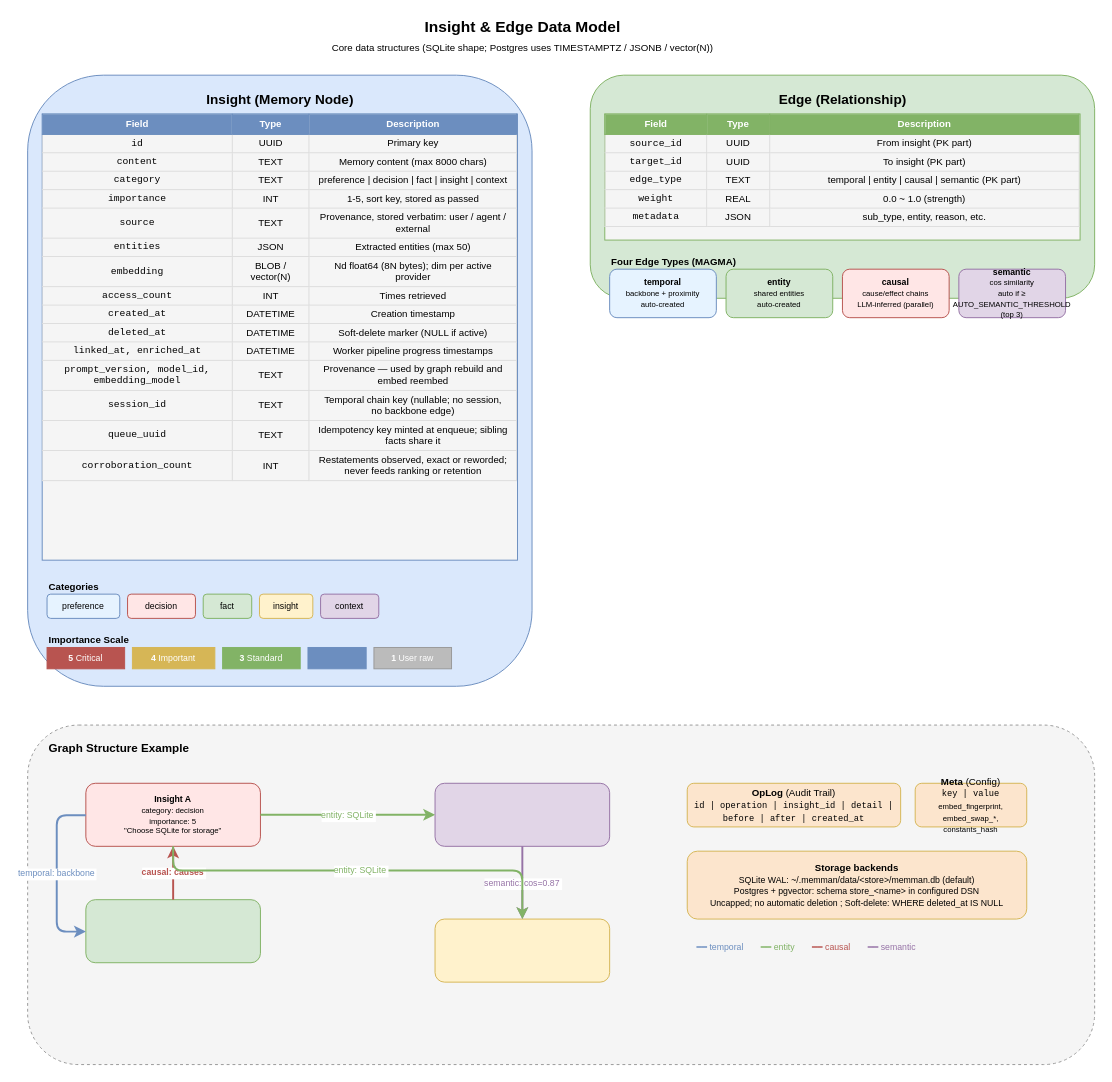
Some shapes in this 1112 by 1082 pixel diagram are drawn without their labels. The shapes that lost their labels are listed below. From the top down, each one's centre as x and y in pixels, then its label:
the point at 336,658: 2 Low
the point at 522,814: Insight C category: context importance: 3 "SQLite WAL concurrency test"
the point at 172,931: Insight B category: fact importance: 3 "Team lacks Redis experience"
the point at 522,950: Insight D category: insight importance: 4 "DB comparison report"
